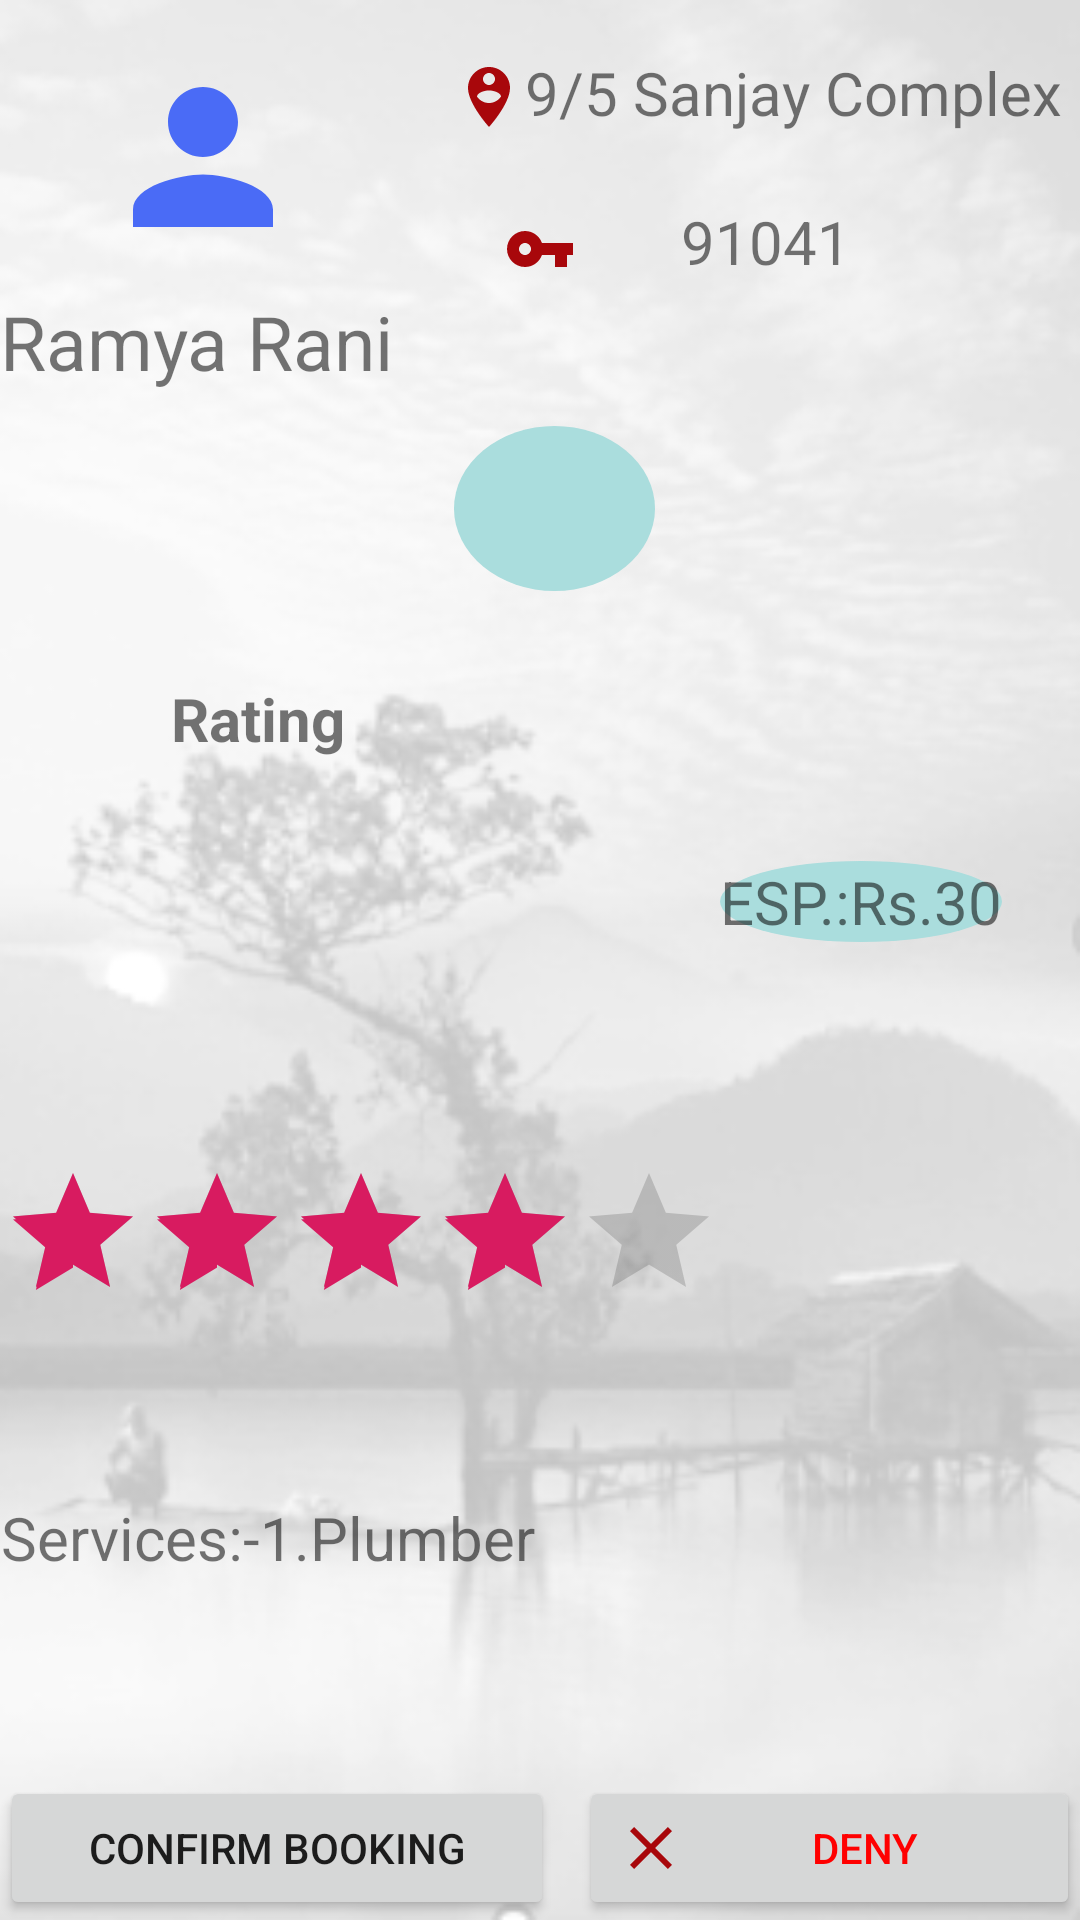

Named icons in this screenshot (1080w x 1920h) and their centers, point (x, y):
person: point (203, 157)
person pin circle: point (489, 97)
vpn key: point (540, 249)
